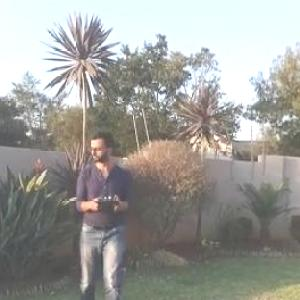follow: (68, 120, 134, 299)
